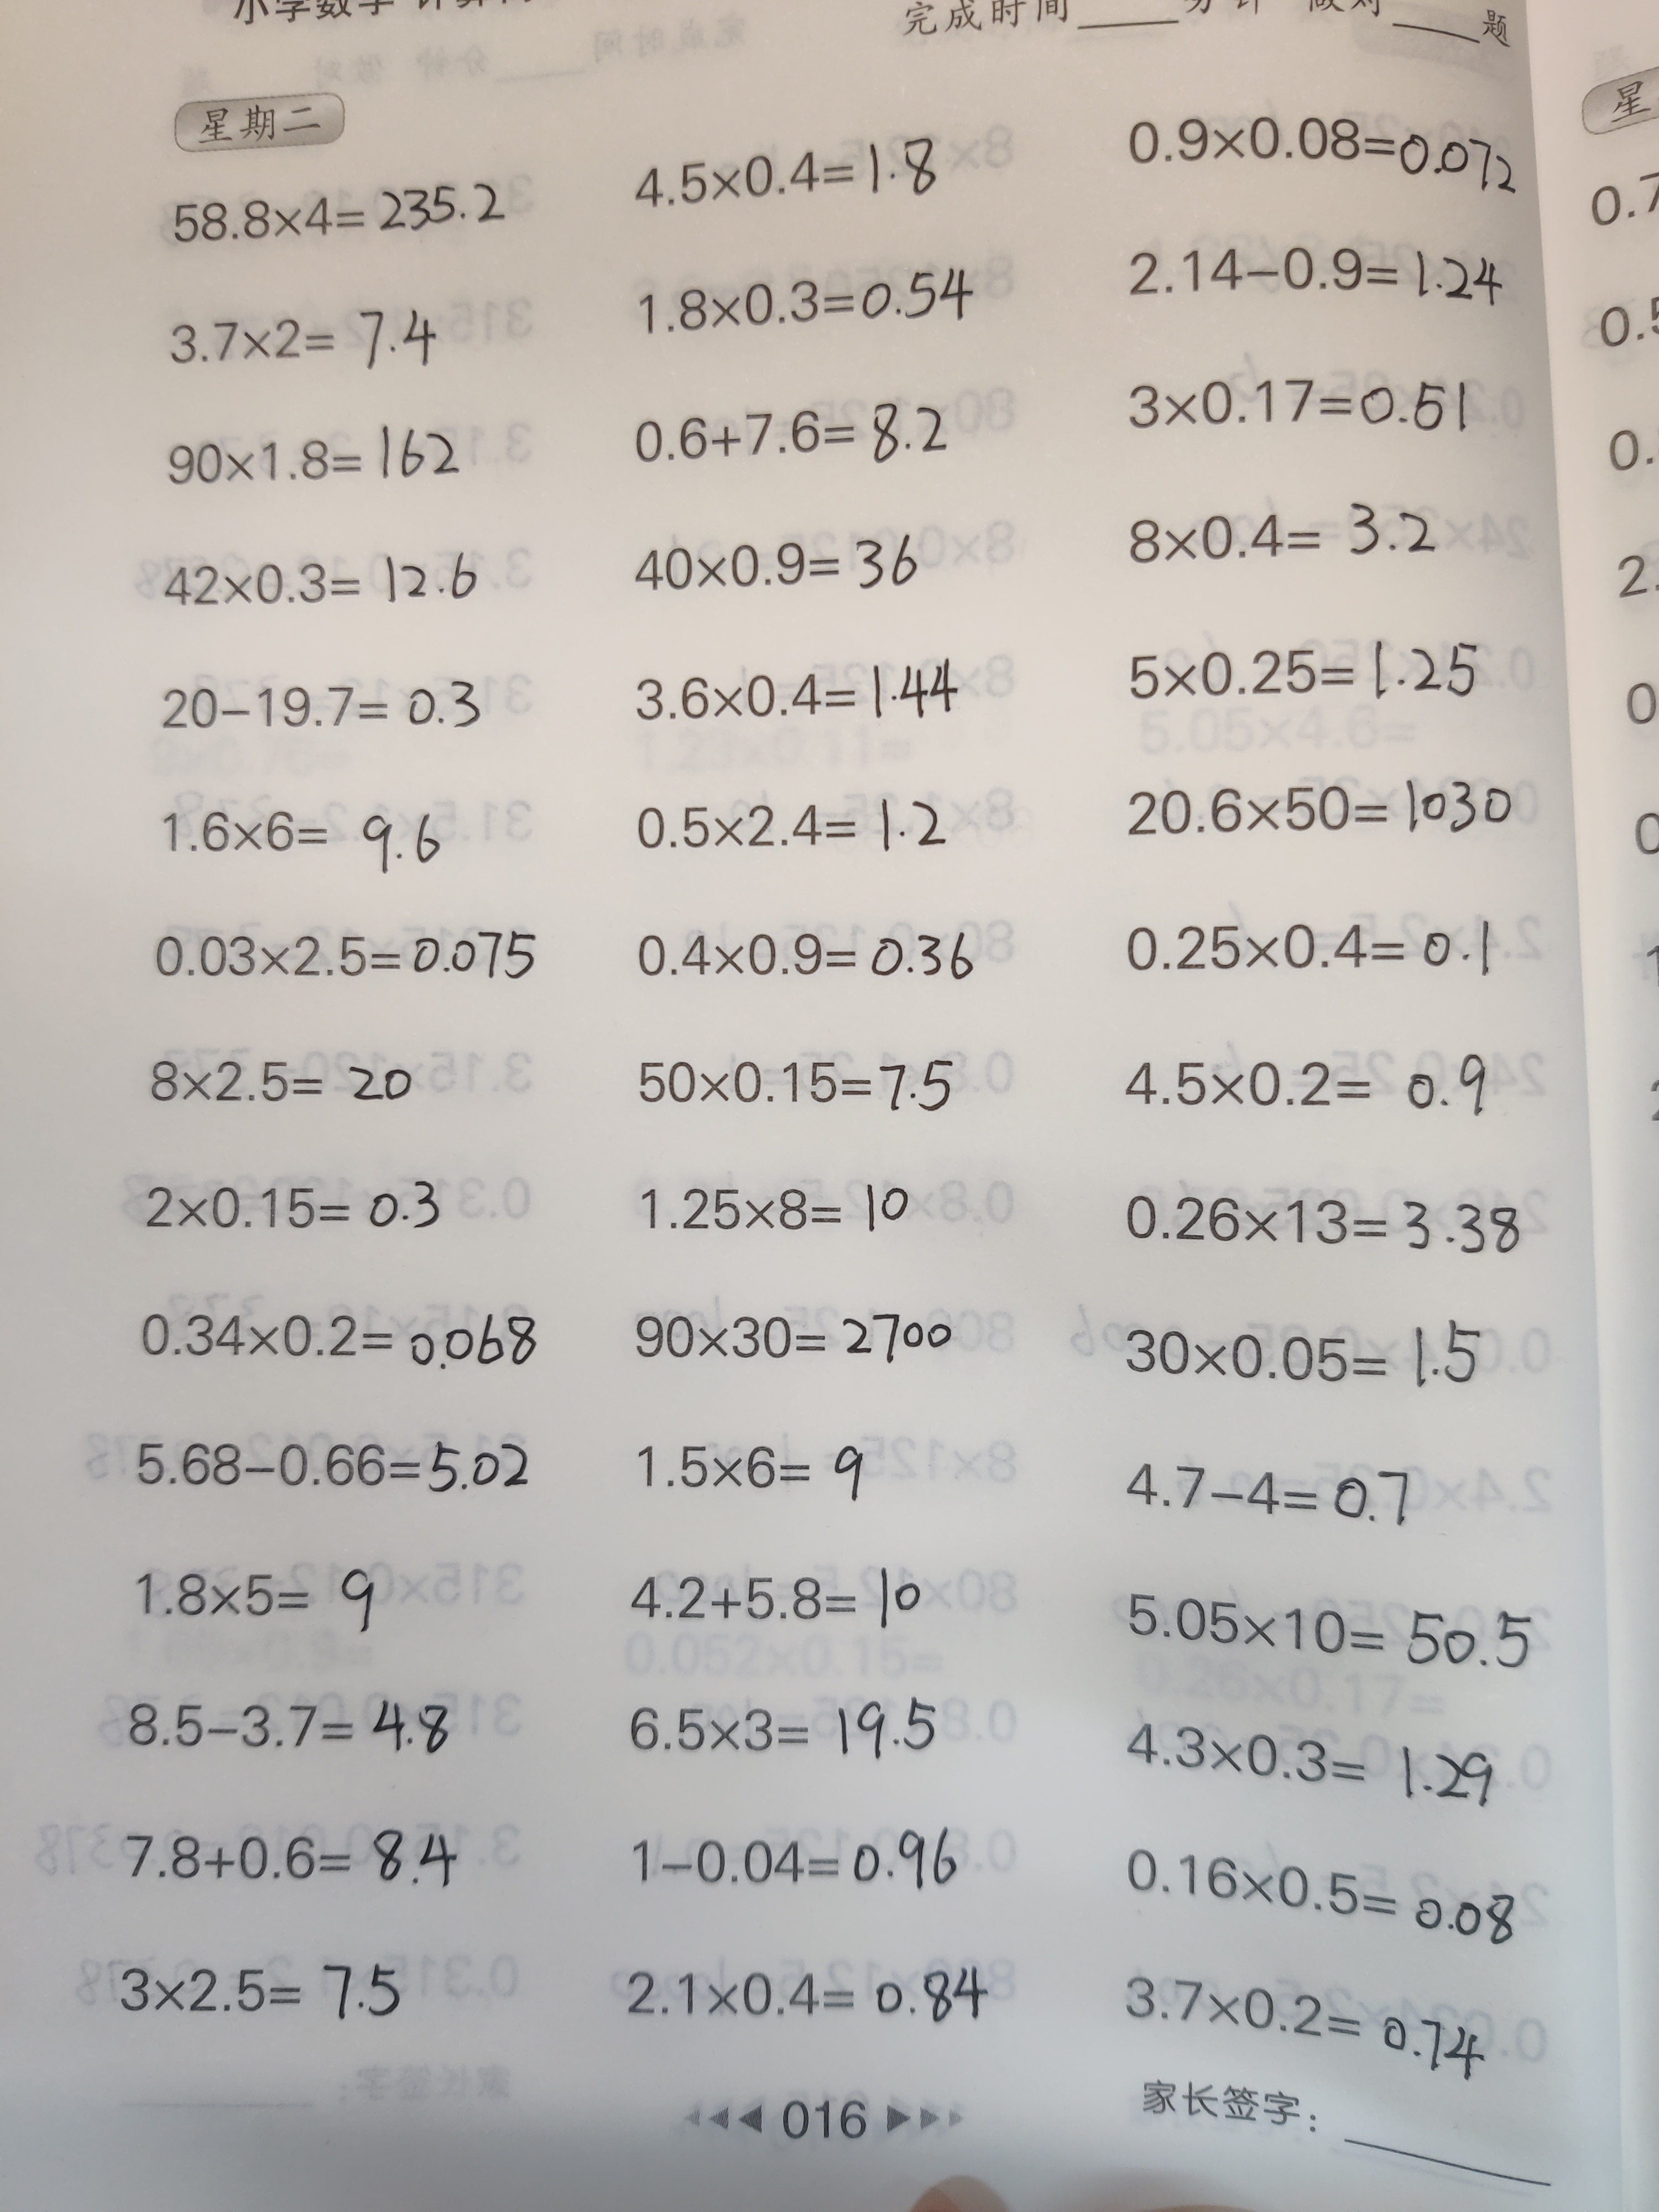equation: (1119, 1575, 1551, 1693), (1126, 1970, 1509, 2092), (1122, 99, 1525, 214), (605, 1787, 971, 1911), (1119, 1839, 1521, 1951), (1119, 1714, 1511, 1827), (1117, 620, 1504, 732), (1107, 1176, 1544, 1271), (125, 1287, 549, 1385), (1117, 899, 1509, 998), (610, 1942, 995, 2043), (610, 765, 967, 873), (1110, 1303, 1492, 1402), (619, 639, 983, 742), (120, 1418, 533, 1508), (619, 909, 999, 1007), (110, 1813, 474, 1911), (1100, 1038, 1499, 1127), (615, 1541, 943, 1649), (615, 1036, 971, 1136), (155, 169, 523, 265), (1117, 233, 1514, 320), (113, 1674, 465, 1771), (1122, 491, 1466, 587), (1112, 765, 1521, 845), (1112, 1447, 1436, 1548), (148, 916, 542, 998), (626, 138, 955, 235), (155, 409, 486, 505), (622, 1158, 948, 1254), (157, 293, 474, 390), (612, 1679, 948, 1770), (1117, 368, 1485, 449), (145, 542, 498, 625), (622, 390, 965, 475), (619, 1294, 960, 1379), (129, 1162, 453, 1251), (143, 672, 498, 752), (624, 265, 995, 341), (105, 1942, 416, 2031), (148, 789, 458, 878), (124, 1548, 397, 1648), (629, 519, 931, 608), (622, 1418, 882, 1515), (138, 1036, 427, 1123)
